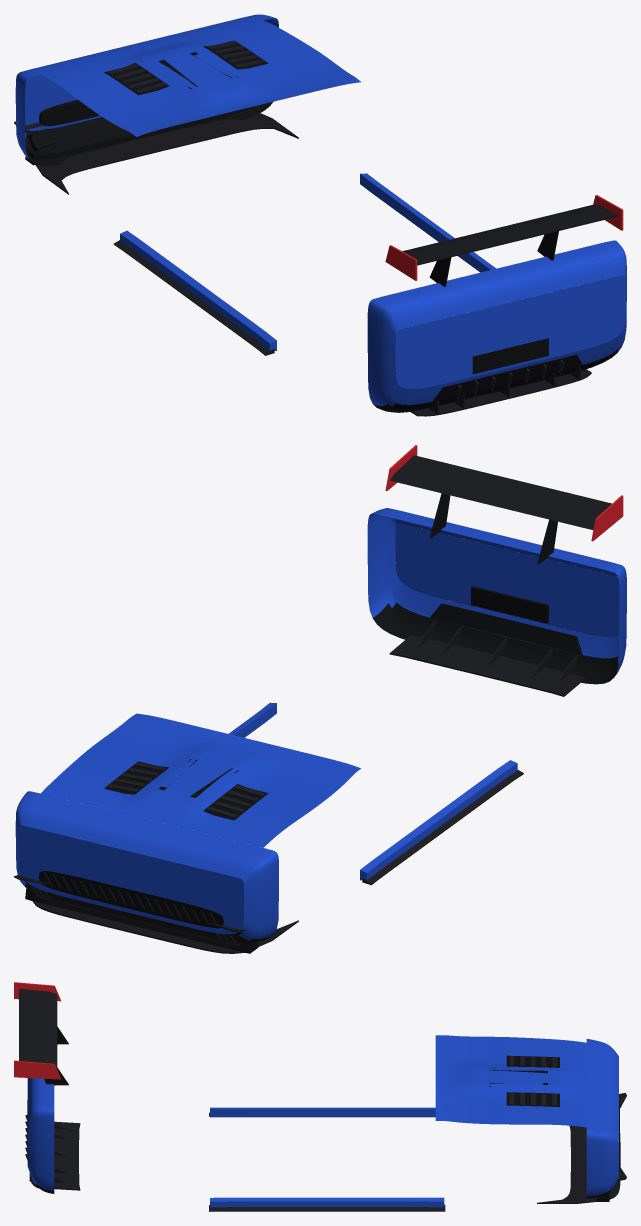
File: kit_track.glb
3 views of the same model, one above another, from view 1: azimuth 30°, elevation 25°; view 2: azimuth 150°, elevation 25°; view 3: azimuth 270°, elevation 25° (orthographic). The views are drawn at different scales.
Parts seen in each view (by area): view 1: bumper_front__track, bumper_rear__track, hood__track, skirts__track, spoiler__track; view 2: bumper_front__track, hood__track, bumper_rear__track, spoiler__track, skirts__track; view 3: hood__track, bumper_front__track, skirts__track, bumper_rear__track, spoiler__track.
Boxes of the visible parts, x1,y1,x2,y2 form: bumper_front__track: (14,14,625,388); bumper_rear__track: (367,240,626,416); hood__track: (41,20,360,136); skirts__track: (114,173,495,355); spoiler__track: (385,195,623,286); bumper_front__track: (14,523,619,953); hood__track: (41,713,360,847); bumper_rear__track: (367,508,626,696); spoiler__track: (385,445,623,564); skirts__track: (228,702,523,885); hood__track: (435,1035,586,1127); bumper_front__track: (537,1039,626,1203); skirts__track: (209,1107,445,1211); bumper_rear__track: (25,1078,80,1193); spoiler__track: (14,982,68,1085).
Size of what is drawn, in the model's own units: 1.83 by 1.22 by 4.81.
